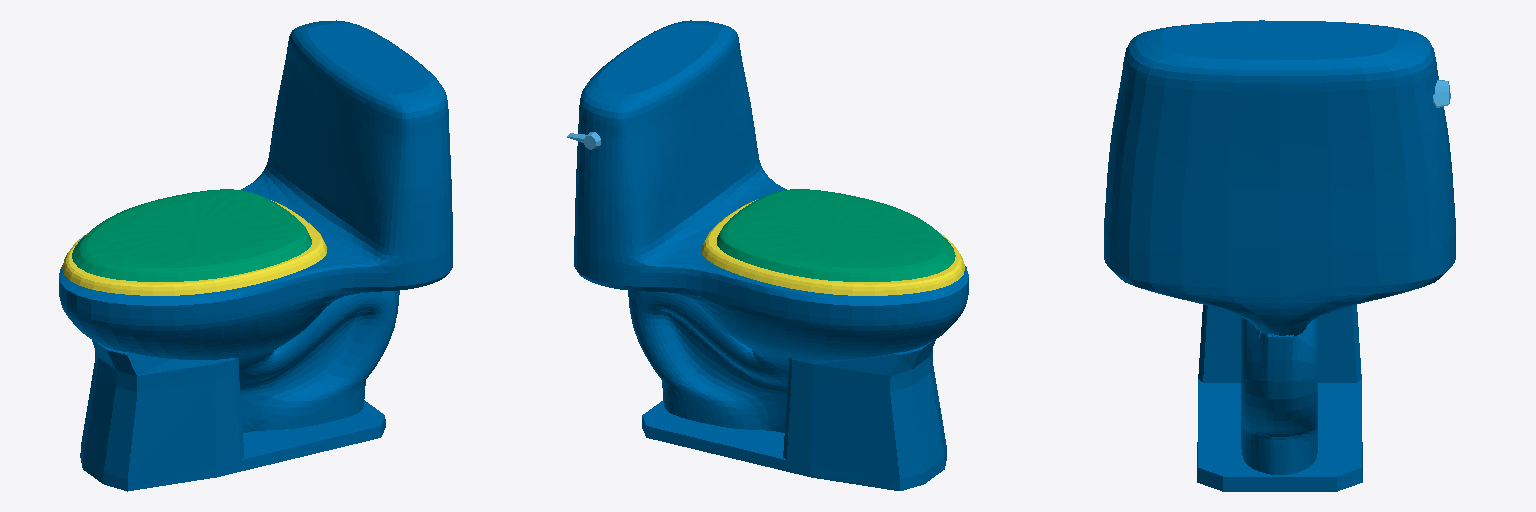
robot.urdf — partnet_768ee280c67c9c71e6015e010ed67751:
<robot name="partnet_768ee280c67c9c71e6015e010ed67751">
	<link name="base" />
	<link name="link_0">
		<collision>
			<origin xyz="0.47760162459083766 -0.6374467356305769 0.4431818701940105" />
			<geometry>
				<mesh filename="new_objs/102654_link_0_1.obj" />
			</geometry>
		</collision>
	<collision>
			<origin xyz="0.47760162459083766 -0.6374467356305769 0.4431818701940105" />
			<geometry>
				<mesh filename="new_objs/102654_link_0_0.obj" />
			</geometry>
		</collision>
	<visual name="button-part[&quot;id]">
			<origin xyz="0.47760162459083766 -0.6374467356305769 0.4431818701940105" />
			<geometry>
				<mesh filename="textured_objs/original-5.obj" />
			</geometry>
		</visual>
		</link>
	<joint name="joint_0" type="revolute">
		<origin xyz="-0.47760162459083766 0.6374467356305769 -0.4431818701940105" />
		<axis xyz="-0.9908156999973504 0.1352192599175705 1.9649549901129858e-05" />
		<child link="link_0" />
		<parent link="link_3" />
		<limit lower="-0.0" upper="0.5235987755982988" />
	</joint>
	<link name="link_1">
		<collision>
			<origin xyz="0 -0.19178392875469766 0.1470086939618923" />
			<geometry>
				<mesh filename="new_objs/102654_link_1_0.obj" />
			</geometry>
		</collision>
	<visual name="lid-part[&quot;id]">
			<origin xyz="0 -0.19178392875469766 0.1470086939618923" />
			<geometry>
				<mesh filename="textured_objs/original-3.obj" />
			</geometry>
		</visual>
		</link>
	<joint name="joint_1" type="revolute">
		<origin xyz="0 0.19178392875469766 -0.1470086939618923" />
		<axis xyz="-1 0 0" />
		<child link="link_1" />
		<parent link="link_3" />
		<limit lower="-0.0" upper="1.658062789394613" />
	</joint>
	<link name="link_2">
		<collision>
			<origin xyz="0 -0.19178392875469766 0.1470086939618923" />
			<geometry>
				<mesh filename="new_objs/102654_link_2_0.obj" />
			</geometry>
		</collision>
	<visual name="seat-part[&quot;id]">
			<origin xyz="0 -0.19178392875469766 0.1470086939618923" />
			<geometry>
				<mesh filename="textured_objs/original-2.obj" />
			</geometry>
		</visual>
		</link>
	<joint name="joint_2" type="revolute">
		<origin xyz="0 0.19178392875469766 -0.1470086939618923" />
		<axis xyz="-1 0 0" />
		<child link="link_2" />
		<parent link="link_3" />
		<limit lower="-0.0" upper="1.658062789394613" />
	</joint>
	<link name="link_3">
		<collision>
			<origin xyz="0 0 0" />
			<geometry>
				<mesh filename="new_objs/102654_link_3_7.obj" />
			</geometry>
		</collision>
		<collision>
			<origin xyz="0 0 0" />
			<geometry>
				<mesh filename="new_objs/102654_link_3_3.obj" />
			</geometry>
		</collision>
		<collision>
			<origin xyz="0 0 0" />
			<geometry>
				<mesh filename="new_objs/102654_link_3_6.obj" />
			</geometry>
		</collision>
		<collision>
			<origin xyz="0 0 0" />
			<geometry>
				<mesh filename="new_objs/102654_link_3_5.obj" />
			</geometry>
		</collision>
		<collision>
			<origin xyz="0 0 0" />
			<geometry>
				<mesh filename="new_objs/102654_link_3_4.obj" />
			</geometry>
		</collision>
		<collision>
			<origin xyz="0 0 0" />
			<geometry>
				<mesh filename="new_objs/102654_link_3_0.obj" />
			</geometry>
		</collision>
		<collision>
			<origin xyz="0 0 0" />
			<geometry>
				<mesh filename="new_objs/102654_link_3_1.obj" />
			</geometry>
		</collision>
		<collision>
			<origin xyz="0 0 0" />
			<geometry>
				<mesh filename="new_objs/102654_link_3_2.obj" />
			</geometry>
		</collision>
		<visual name="base_body-part[&quot;id]">
			<origin xyz="0 0 0" />
			<geometry>
				<mesh filename="textured_objs/original-6.obj" />
			</geometry>
		</visual>
		<visual name="base_body-part[&quot;id]">
			<origin xyz="0 0 0" />
			<geometry>
				<mesh filename="textured_objs/original-7.obj" />
			</geometry>
		</visual>
		</link>
	<joint name="joint_3" type="fixed">
		<origin rpy="1.570796326794897 0 -1.570796326794897" xyz="0 0 0" />
		<child link="link_3" />
		<parent link="base" />
	</joint>
</robot>

--- What the picture shows (computed from the rendered views, not written in the file) ---
The picture shows the robot from 3 angles, left to right: view 1: azimuth 30°, elevation 25°; view 2: azimuth 150°, elevation 25°; view 3: azimuth 270°, elevation 25°; orthographic projection.
Robot: partnet_768ee280c67c9c71e6015e010ed67751 — 5 links, 4 joints (3 revolute, 1 fixed); root link base; default pose: every joint at zero.
Visible links, largest first — view 1: link_3, link_1, link_2; view 2: link_3, link_1, link_2; view 3: link_3.
Link boxes in pixels (<box>): link_3: <box>59,20,452,491</box>; link_1: <box>72,189,311,281</box>; link_2: <box>62,200,326,295</box>; link_3: <box>574,20,968,490</box>; link_1: <box>717,189,955,281</box>; link_2: <box>702,199,964,295</box>; link_3: <box>1104,20,1455,491</box>.
Size in the robot's own frame: 1.46 by 1 by 1.43 metres.
Meshes: 5 distinct files referenced, 5 mesh visuals loaded (5 OBJ).
